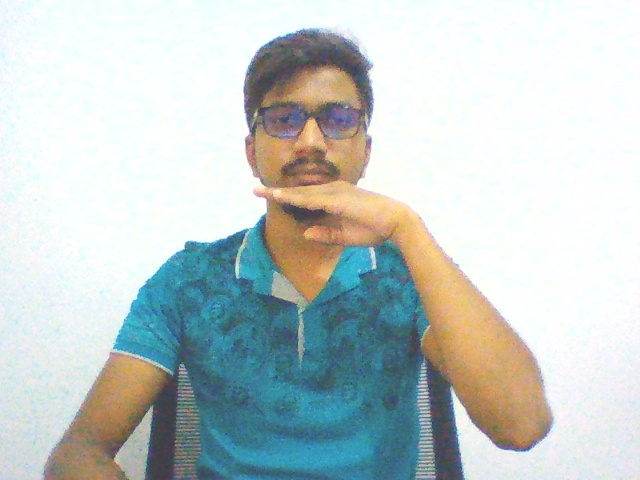elephant: (247, 175, 421, 252)
